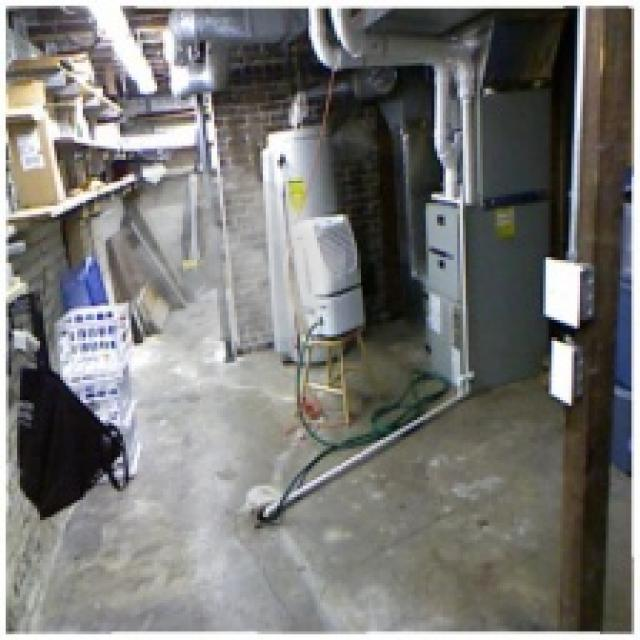Smoke: (100, 152, 346, 366)
